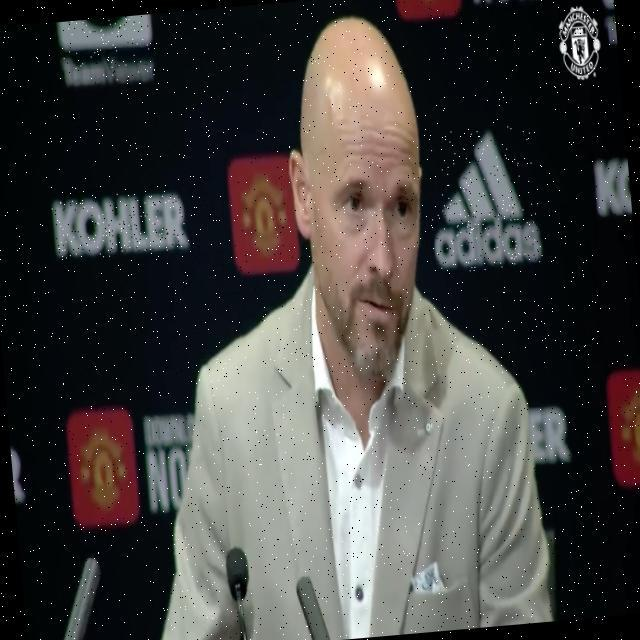Adidas: (424, 124, 543, 274)
Kohler: (51, 188, 190, 261)
TeamViewer: (59, 14, 155, 87)
